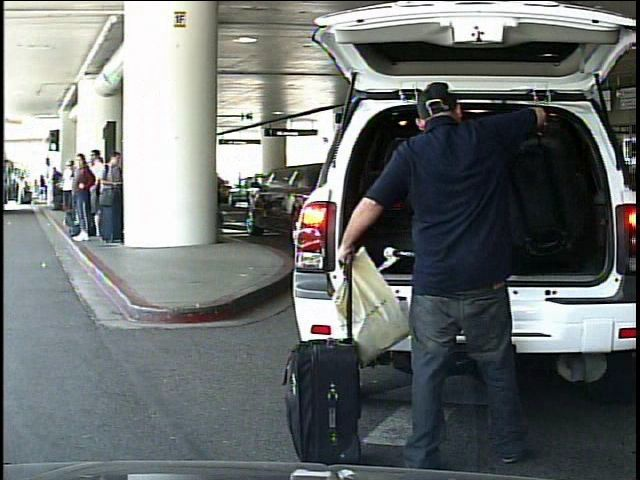person: (344, 95, 553, 473), (35, 173, 47, 203), (18, 175, 28, 206)
